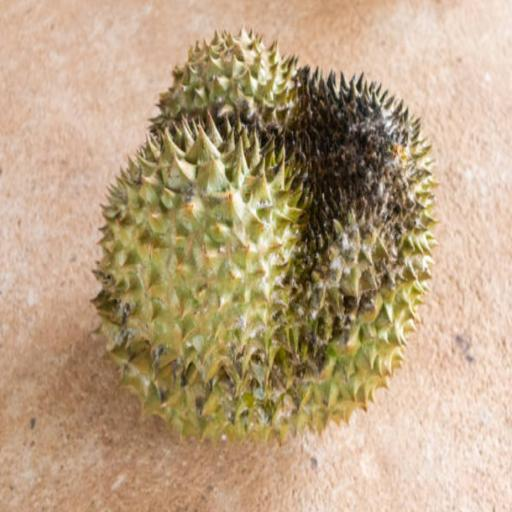mold: (350, 83, 401, 211)
rot: (168, 65, 387, 281)
